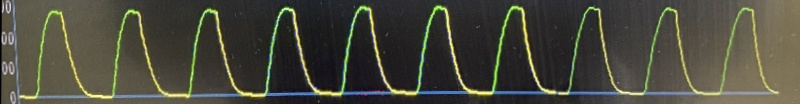normal_volume: (12, 0, 791, 104)
